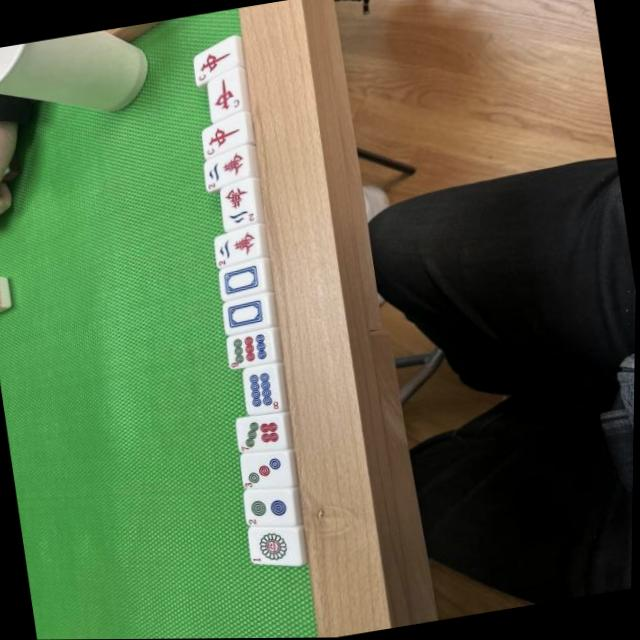hdr: (191, 43, 239, 82), (201, 118, 248, 155), (207, 75, 245, 116)
hdw: (225, 295, 271, 332), (219, 263, 265, 298)
sc2: (220, 183, 261, 229), (202, 149, 250, 188), (214, 229, 262, 266)
sd1: (251, 525, 298, 563)
sd2: (245, 487, 294, 526)
sd3: (242, 451, 290, 488)
sd7: (238, 413, 285, 451)
sd8: (243, 364, 284, 415)
sd9: (228, 330, 274, 369)
